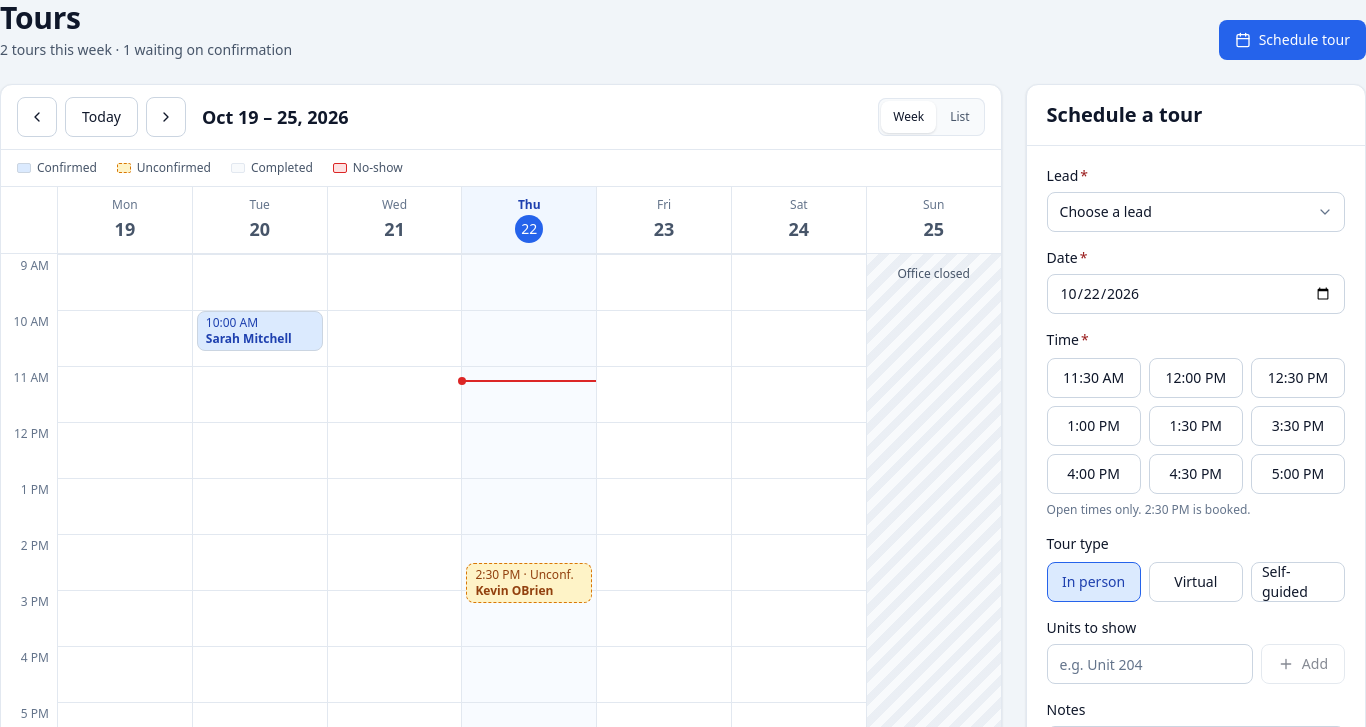
Test: ToursPage › switches to the list view
What coordinates should you click on to do the following:
click the button "List"
I would click on:
 (960, 117)
Its box is x1=938 y1=101 x2=982 y2=133.
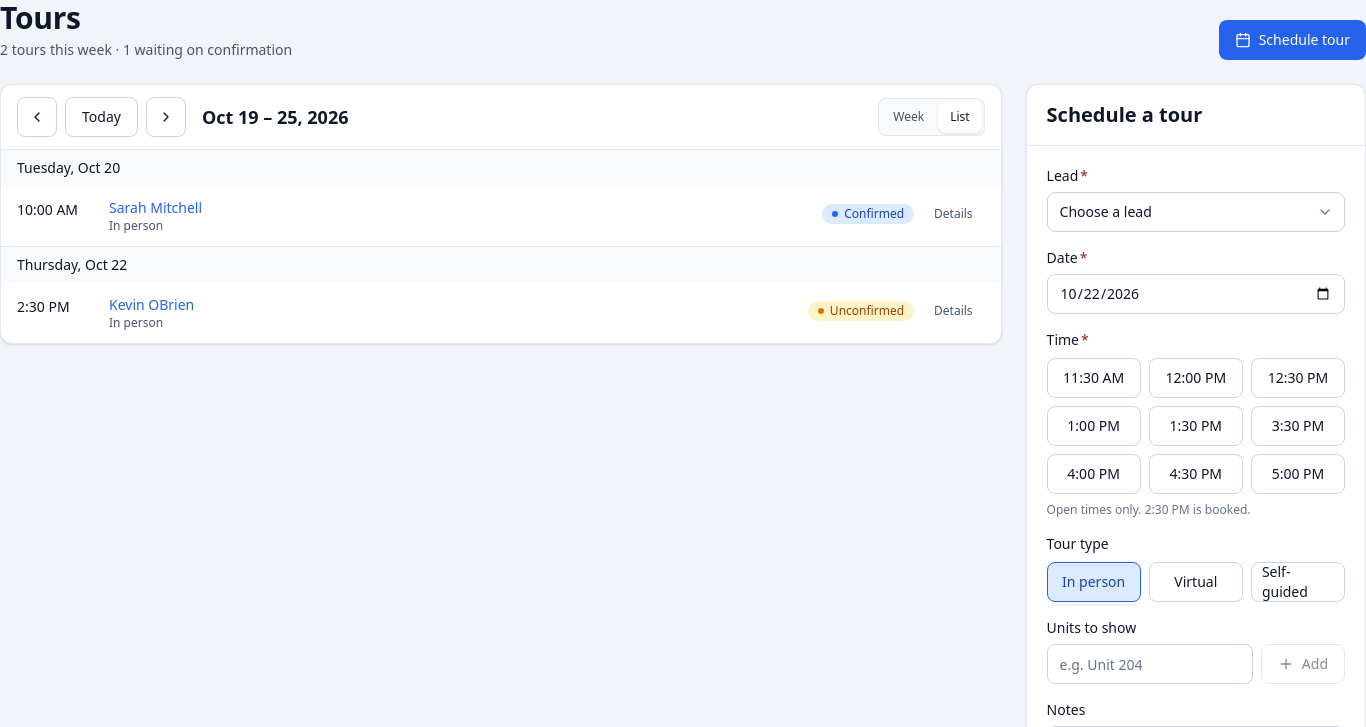
Result: the heading "Tuesday, Oct 20" is shown at x1=1 y1=150 x2=1001 y2=186
